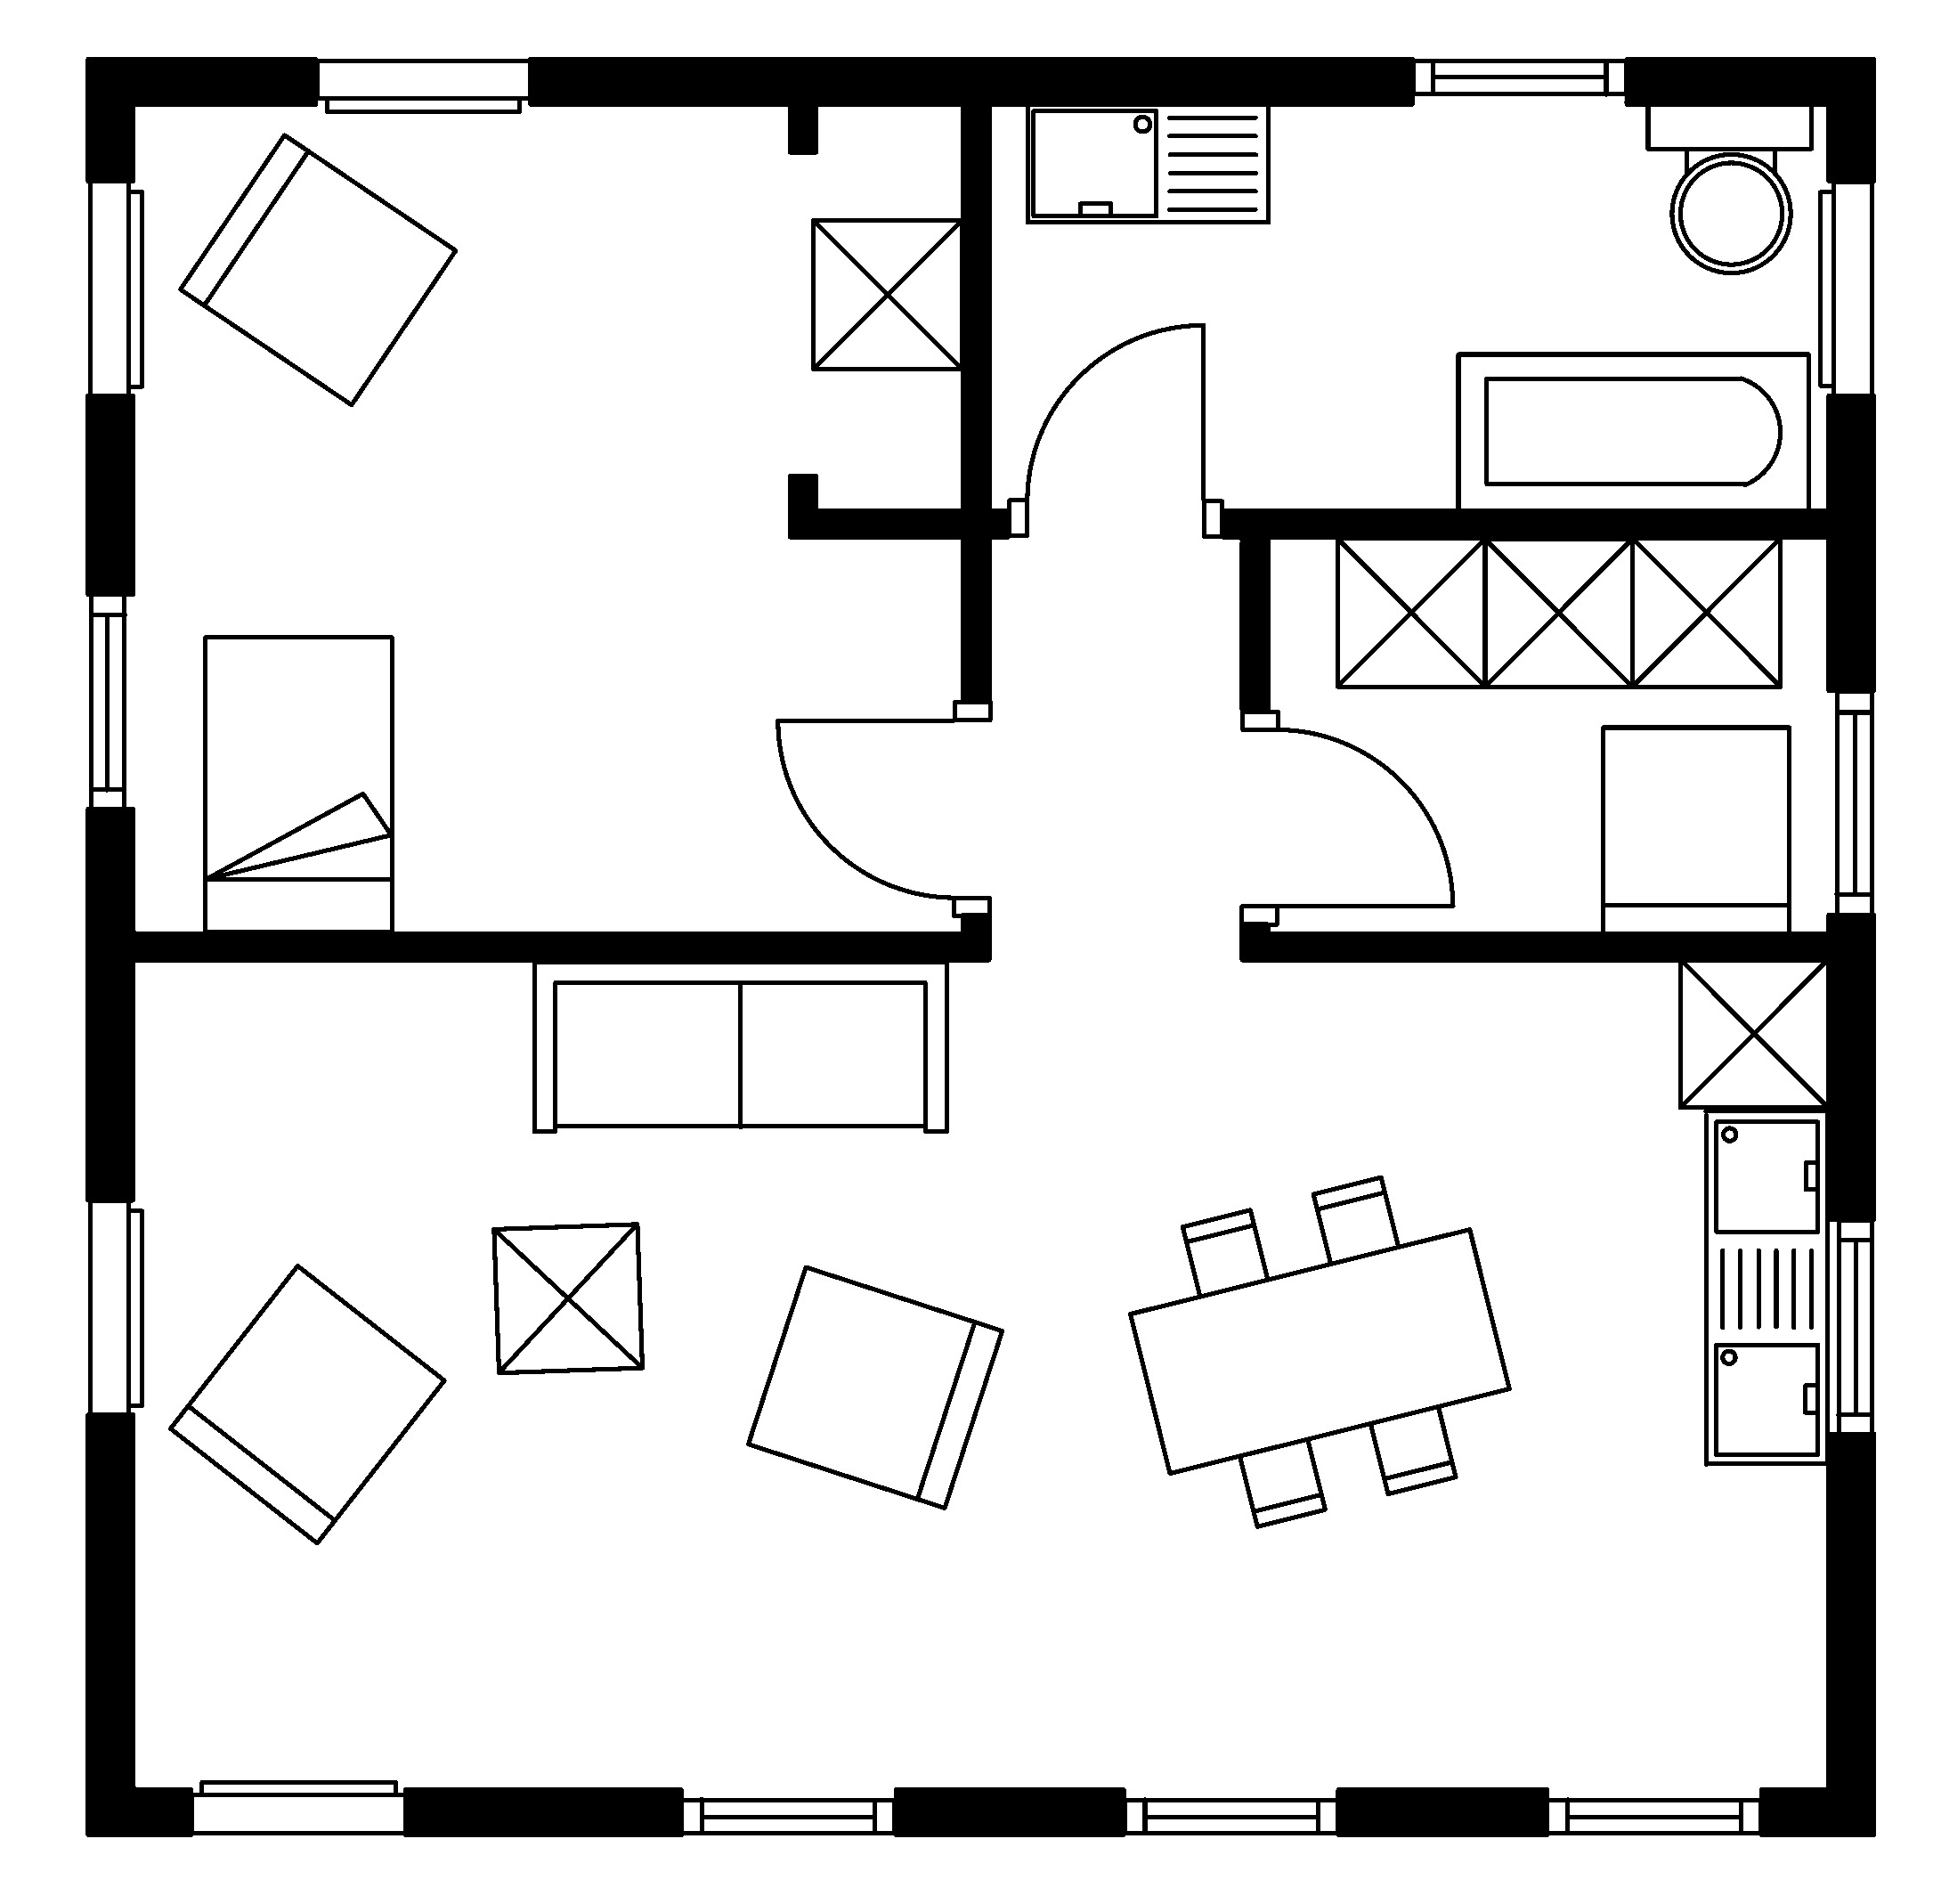basin: (1696, 1107, 1823, 1472), (1021, 106, 1276, 230)
bed: (195, 628, 401, 929)
door: (770, 701, 992, 919), (1009, 317, 1225, 535), (1238, 713, 1459, 924)
rectangleTable: (1119, 1172, 1513, 1533)
window: (1126, 1792, 1342, 1845), (682, 1792, 892, 1843), (1832, 689, 1875, 915), (1412, 56, 1633, 99), (1550, 1794, 1759, 1839), (87, 596, 131, 809), (1834, 1221, 1875, 1437)
